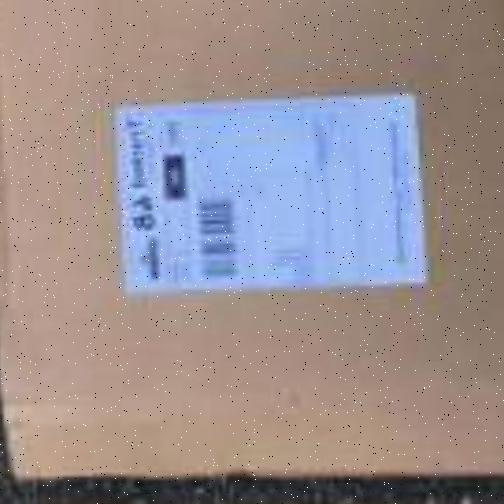Other: (3, 0, 504, 482)
